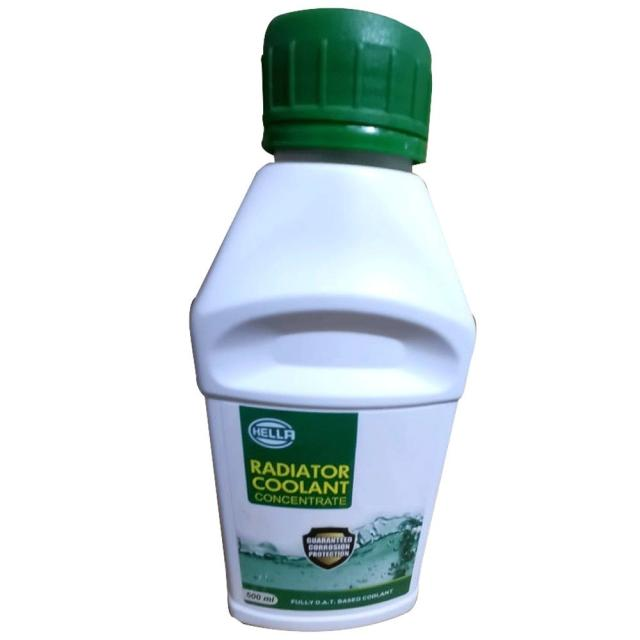coolant: (188, 6, 466, 634)
